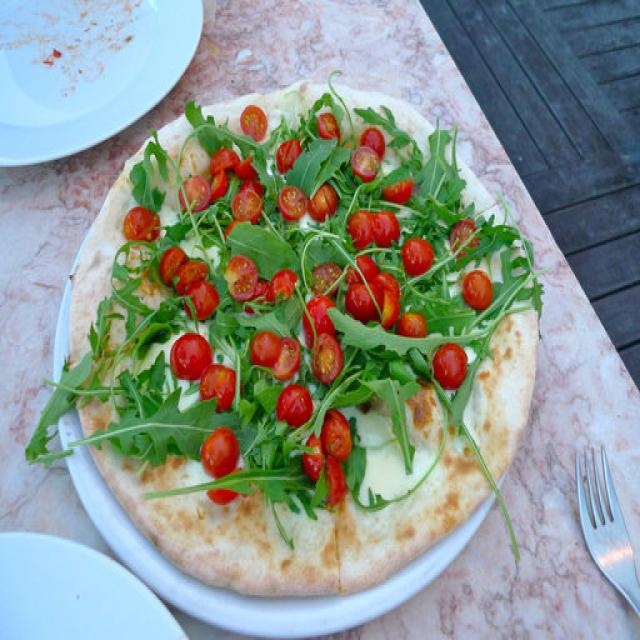Pizza: (24, 92, 541, 598)
Rucola: (27, 305, 116, 461), (83, 400, 215, 459), (91, 248, 162, 352), (480, 265, 538, 344), (335, 316, 437, 360), (242, 383, 278, 493), (422, 135, 468, 216), (378, 385, 417, 473), (230, 227, 311, 268), (416, 276, 472, 333), (354, 105, 418, 152), (130, 136, 167, 210), (211, 306, 273, 342), (184, 107, 237, 148), (302, 141, 348, 183), (169, 214, 226, 242)
Tomato: (177, 342, 236, 410), (163, 248, 218, 315), (306, 420, 348, 507), (182, 145, 234, 212), (352, 261, 400, 325), (306, 303, 344, 380), (206, 432, 240, 504), (253, 334, 301, 377), (247, 272, 294, 314), (236, 154, 264, 224), (352, 210, 398, 246), (354, 130, 383, 181), (123, 207, 161, 242), (281, 385, 310, 428), (278, 182, 307, 220), (403, 236, 432, 274), (226, 256, 253, 295), (436, 349, 463, 387), (239, 105, 268, 140), (449, 218, 479, 248), (312, 266, 340, 296), (312, 188, 336, 222), (466, 274, 488, 309), (279, 134, 300, 168), (386, 181, 414, 203), (399, 316, 426, 338), (319, 114, 339, 139)
